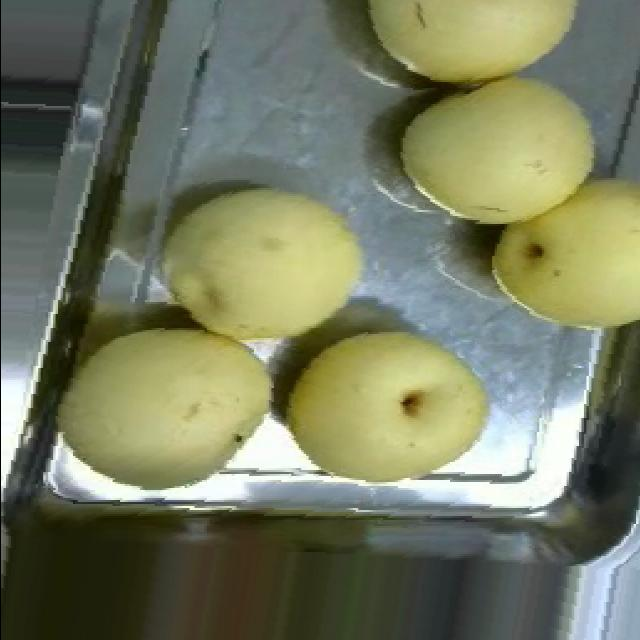Fruit: (139, 158, 389, 380), (32, 300, 292, 506), (377, 66, 623, 250), (266, 302, 506, 482), (474, 146, 640, 350), (342, 0, 608, 80)
